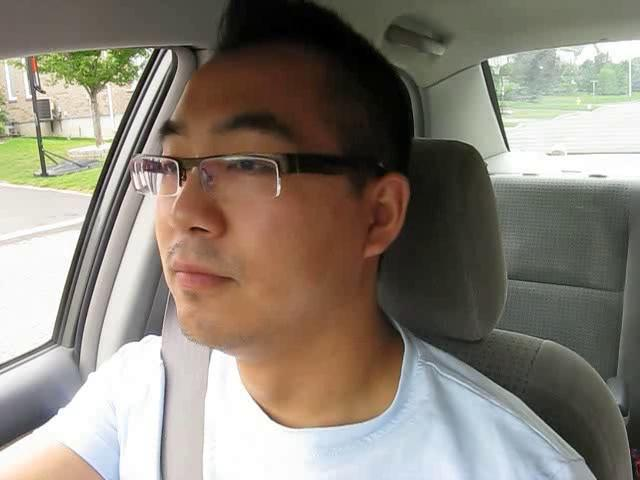no_yawn: (152, 247, 248, 311)
open_eyeL: (140, 146, 190, 191)
open_eyeR: (207, 138, 289, 195)
